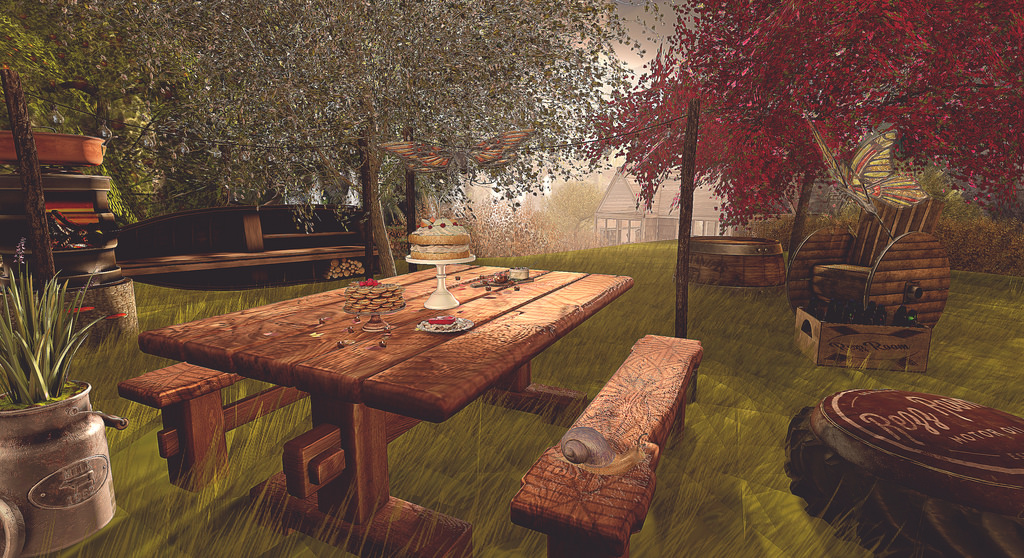slice of bread: (409, 215, 473, 256)
